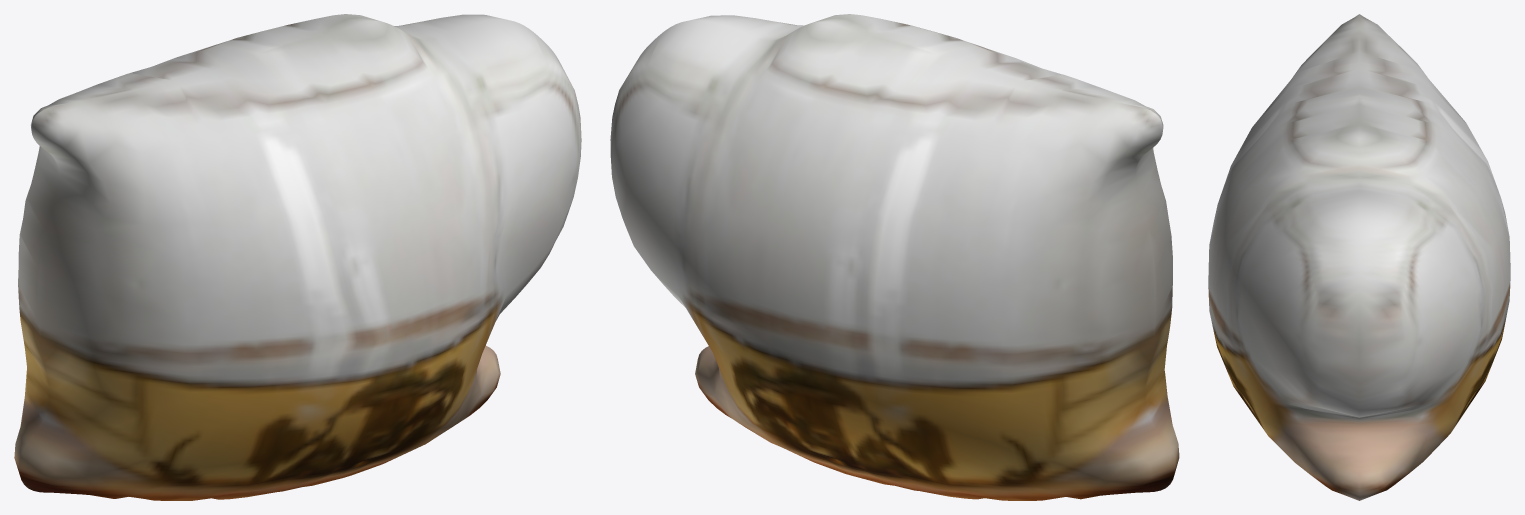
The model's file is teacup.glb.
3 views of the same model, side by side, from view 1: azimuth 30°, elevation 25°; view 2: azimuth 150°, elevation 25°; view 3: azimuth 270°, elevation 25° (orthographic). The views are drawn at different scales.
Visible parts, largest first — view 1: 660f3d18-ebd8-4d61-b5e0-760351afe2cb; view 2: 660f3d18-ebd8-4d61-b5e0-760351afe2cb; view 3: 660f3d18-ebd8-4d61-b5e0-760351afe2cb.
Part boxes in pixels (x1,y1,x2,y2): 660f3d18-ebd8-4d61-b5e0-760351afe2cb: [14, 14, 581, 500]; 660f3d18-ebd8-4d61-b5e0-760351afe2cb: [610, 14, 1179, 500]; 660f3d18-ebd8-4d61-b5e0-760351afe2cb: [1208, 14, 1510, 500].
Bounding box in the file's own units: 1.28 × 0.9589 × 0.7601.
1 material, 1 textured.
